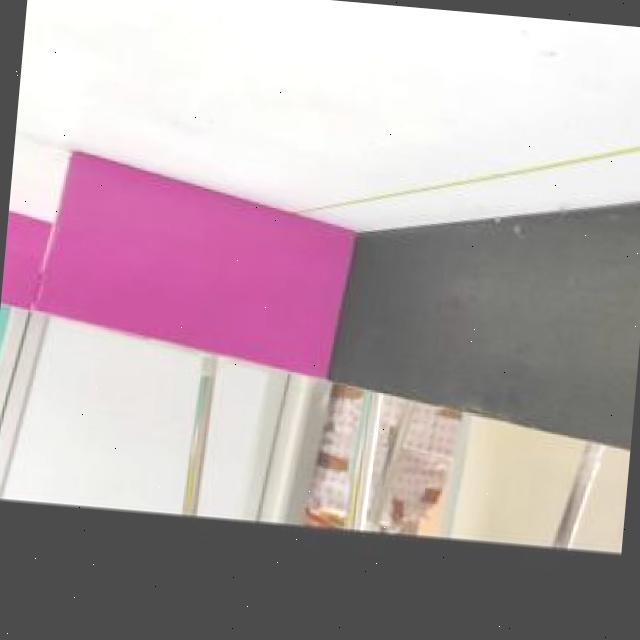xparking: (28, 153, 355, 373), (0, 211, 49, 309)
